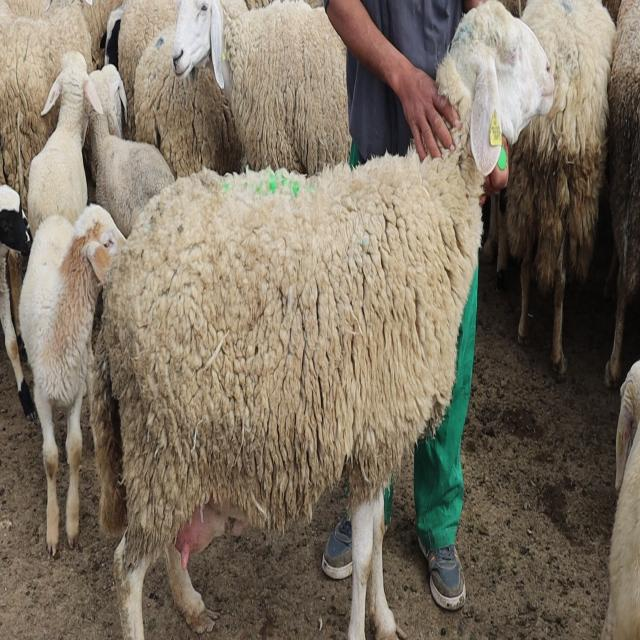Score_2: (90, 2, 554, 639)
